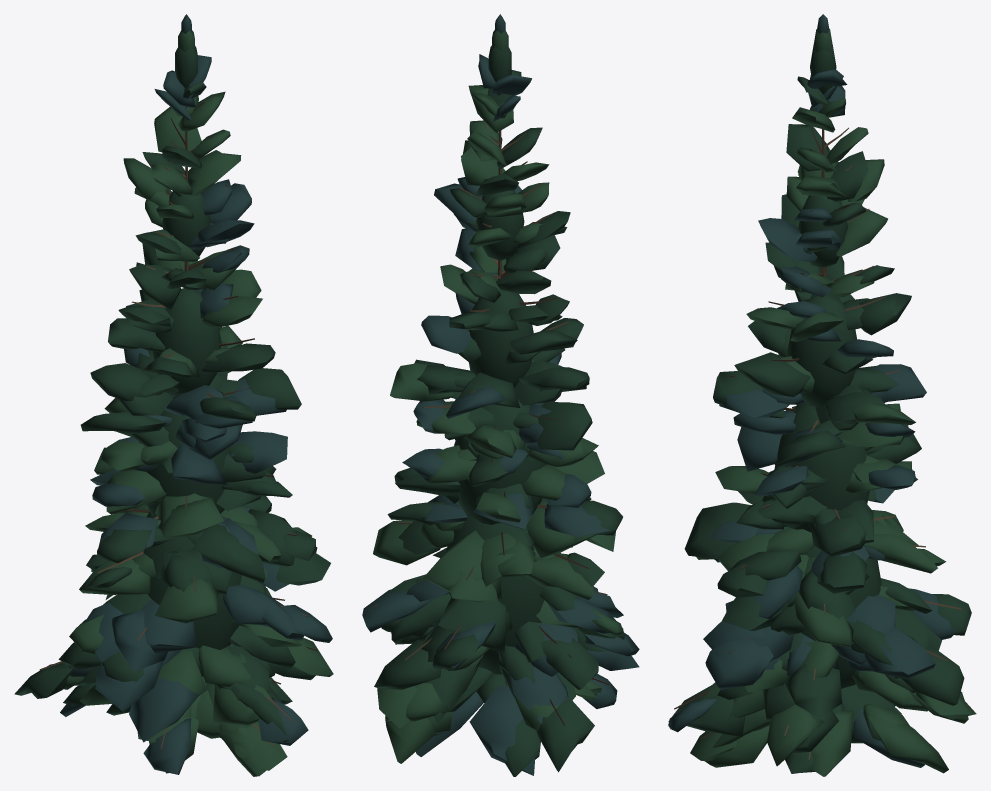
Rendered from crown_conifer.glb.
3 renders of one model, left to right at view 1: azimuth 30°, elevation 25°; view 2: azimuth 150°, elevation 25°; view 3: azimuth 270°, elevation 25°, orthographic. The views are drawn at different scales.
Visible parts, largest first — view 1: Crown_Foliage, Crown_Branches; view 2: Crown_Foliage, Crown_Branches; view 3: Crown_Foliage, Crown_Branches.
Boxes of the visible parts, bbox=[...] form: Crown_Foliage: bbox=[14, 14, 333, 776]; Crown_Branches: bbox=[39, 101, 318, 749]; Crown_Foliage: bbox=[362, 14, 639, 776]; Crown_Branches: bbox=[374, 105, 608, 725]; Crown_Foliage: bbox=[668, 14, 976, 776]; Crown_Branches: bbox=[674, 104, 961, 759].
Size of the model in its own units: 0.3536 by 1 by 0.3785.
